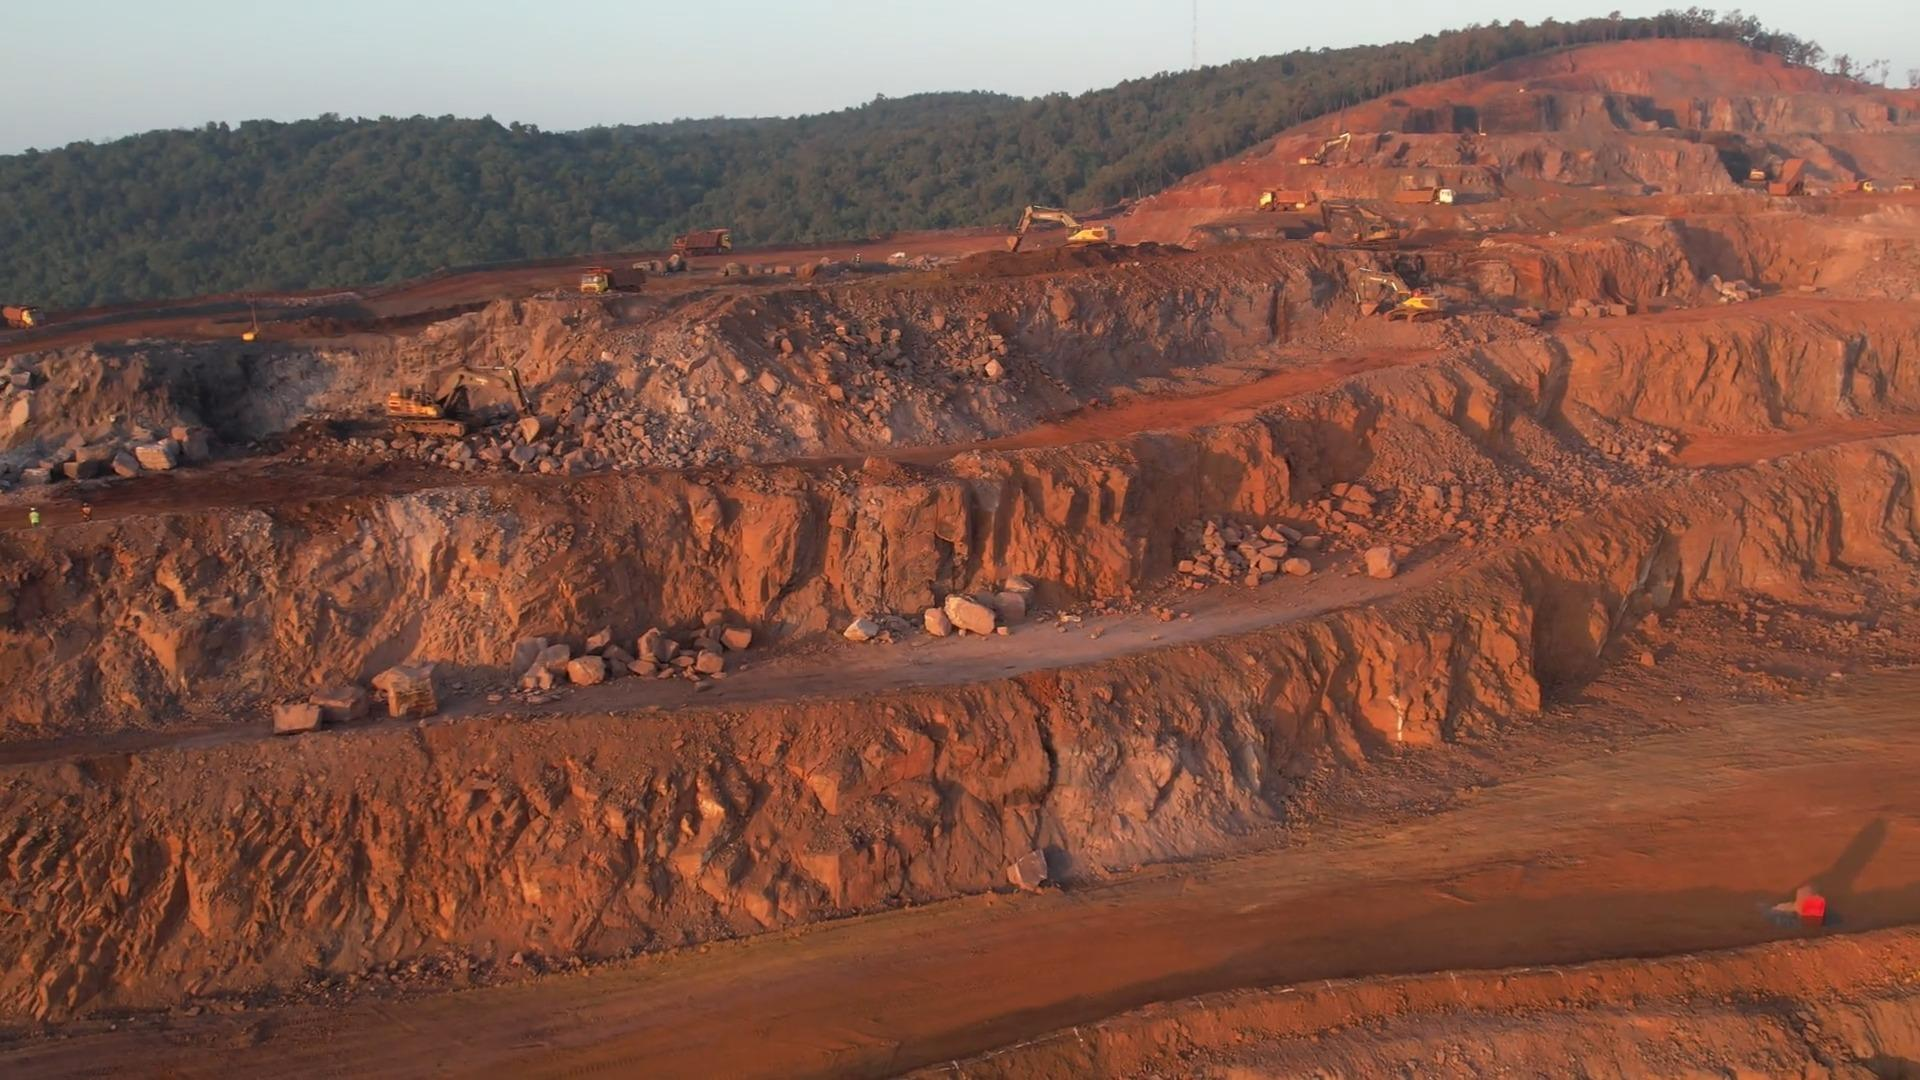excavator: (384, 363, 546, 435), (1013, 206, 1120, 253), (1358, 273, 1448, 323)
